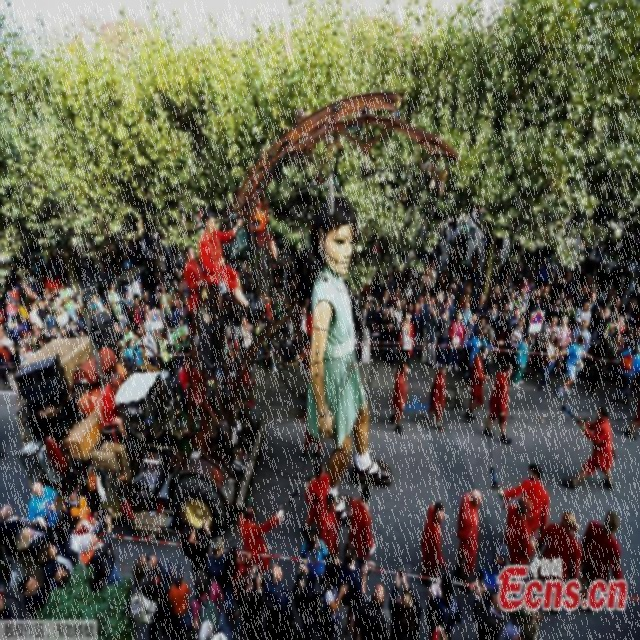pessoa: (297, 190, 393, 491), (198, 207, 262, 316), (429, 230, 534, 294), (559, 396, 616, 493), (534, 508, 583, 616), (578, 508, 624, 614), (77, 512, 126, 601), (497, 462, 550, 540), (238, 499, 286, 580), (336, 538, 374, 640), (484, 574, 542, 639), (130, 551, 168, 639), (454, 481, 484, 592), (182, 243, 211, 355), (96, 228, 152, 286), (190, 568, 234, 639), (456, 324, 499, 394), (481, 358, 515, 446), (17, 564, 68, 620), (347, 483, 377, 578), (302, 458, 332, 550), (98, 374, 134, 448), (387, 568, 424, 639), (262, 561, 296, 638), (424, 574, 462, 639), (205, 535, 234, 620), (318, 556, 350, 632), (26, 480, 64, 540), (553, 334, 588, 399), (236, 561, 265, 639), (420, 500, 448, 580), (468, 541, 511, 592), (355, 580, 392, 639), (463, 344, 490, 424), (180, 516, 212, 582), (291, 561, 318, 639), (68, 515, 103, 575), (578, 256, 639, 290), (419, 362, 447, 434), (158, 556, 182, 639), (14, 515, 54, 563), (167, 562, 194, 633), (38, 542, 76, 592), (614, 336, 640, 409), (224, 544, 252, 611), (301, 531, 330, 594), (0, 502, 30, 561), (316, 492, 342, 559), (536, 328, 562, 394), (60, 483, 99, 526), (178, 354, 207, 408), (510, 328, 532, 391), (391, 358, 408, 437), (296, 303, 314, 377), (507, 314, 526, 380), (156, 327, 178, 382), (397, 312, 416, 374), (446, 310, 465, 372), (240, 312, 258, 374), (554, 314, 572, 374), (424, 306, 441, 369), (0, 338, 20, 391), (436, 306, 452, 370), (382, 305, 397, 372), (0, 278, 40, 303), (58, 278, 78, 326), (358, 298, 372, 362), (570, 318, 591, 359), (608, 314, 626, 361), (138, 326, 158, 368), (172, 264, 186, 324), (58, 326, 74, 376), (484, 316, 496, 382), (224, 335, 240, 384), (593, 304, 613, 342), (410, 300, 422, 360), (574, 298, 592, 338), (90, 304, 104, 355), (110, 300, 126, 344), (585, 288, 599, 338), (105, 284, 124, 320), (539, 314, 559, 348), (416, 266, 432, 308), (171, 296, 190, 331), (447, 203, 462, 246), (156, 286, 172, 324), (36, 298, 56, 328), (622, 412, 640, 442), (436, 211, 450, 249), (560, 296, 578, 324), (177, 316, 190, 354), (133, 298, 148, 330), (28, 300, 44, 330), (426, 296, 436, 344), (559, 268, 575, 298), (536, 257, 552, 285), (370, 300, 383, 334), (472, 291, 487, 320), (7, 340, 20, 372), (609, 293, 623, 322), (18, 340, 36, 362), (56, 304, 70, 332), (500, 300, 512, 332), (118, 307, 132, 333), (460, 298, 472, 328), (487, 300, 499, 330), (428, 259, 437, 299), (467, 206, 477, 241), (379, 288, 391, 317), (170, 324, 182, 353), (154, 248, 167, 274), (142, 289, 156, 313), (488, 281, 504, 302), (122, 322, 135, 347), (518, 284, 530, 310), (132, 331, 144, 356), (29, 322, 41, 347), (92, 293, 105, 314), (446, 294, 456, 321), (238, 334, 248, 360), (50, 324, 64, 339), (142, 310, 150, 336), (508, 290, 516, 315), (42, 285, 53, 302), (77, 326, 89, 340), (132, 292, 140, 310), (125, 337, 136, 350), (34, 336, 44, 350), (157, 270, 164, 285)
